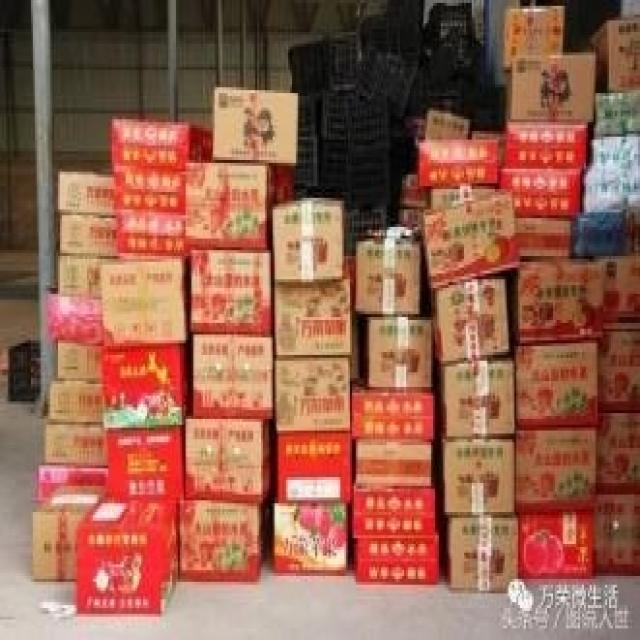box: (75, 492, 178, 617), (423, 189, 520, 288), (99, 259, 186, 352), (516, 259, 605, 346), (186, 163, 276, 247), (514, 340, 597, 431), (101, 343, 186, 431), (514, 428, 597, 518), (186, 416, 271, 503), (180, 497, 265, 582), (188, 250, 273, 335), (31, 486, 106, 582), (431, 276, 509, 367), (191, 335, 273, 419), (213, 87, 298, 163), (507, 55, 596, 122), (275, 276, 350, 355), (443, 355, 516, 436), (275, 198, 344, 282), (443, 436, 516, 515), (104, 428, 184, 500), (275, 358, 350, 433), (354, 236, 422, 317), (275, 433, 352, 503), (449, 515, 518, 593), (273, 503, 348, 573), (518, 512, 594, 579), (367, 323, 431, 390), (594, 492, 640, 579), (503, 6, 563, 70), (596, 329, 640, 413), (354, 442, 431, 489), (592, 20, 640, 93), (597, 413, 640, 492), (352, 375, 433, 416), (112, 122, 215, 154), (44, 422, 108, 465), (56, 169, 114, 215), (420, 137, 499, 169), (507, 122, 586, 154), (356, 556, 439, 585), (503, 143, 586, 172), (514, 218, 572, 259), (354, 489, 435, 518), (499, 166, 580, 195), (605, 256, 640, 323), (60, 215, 116, 256), (112, 143, 211, 166), (48, 384, 101, 425), (116, 209, 186, 239), (58, 250, 102, 297), (110, 169, 186, 195), (352, 416, 433, 439), (352, 515, 433, 538), (58, 337, 102, 378), (510, 195, 578, 218), (420, 166, 497, 186), (356, 538, 439, 556), (425, 108, 470, 140), (120, 236, 186, 256), (596, 93, 625, 137), (116, 195, 186, 209)
